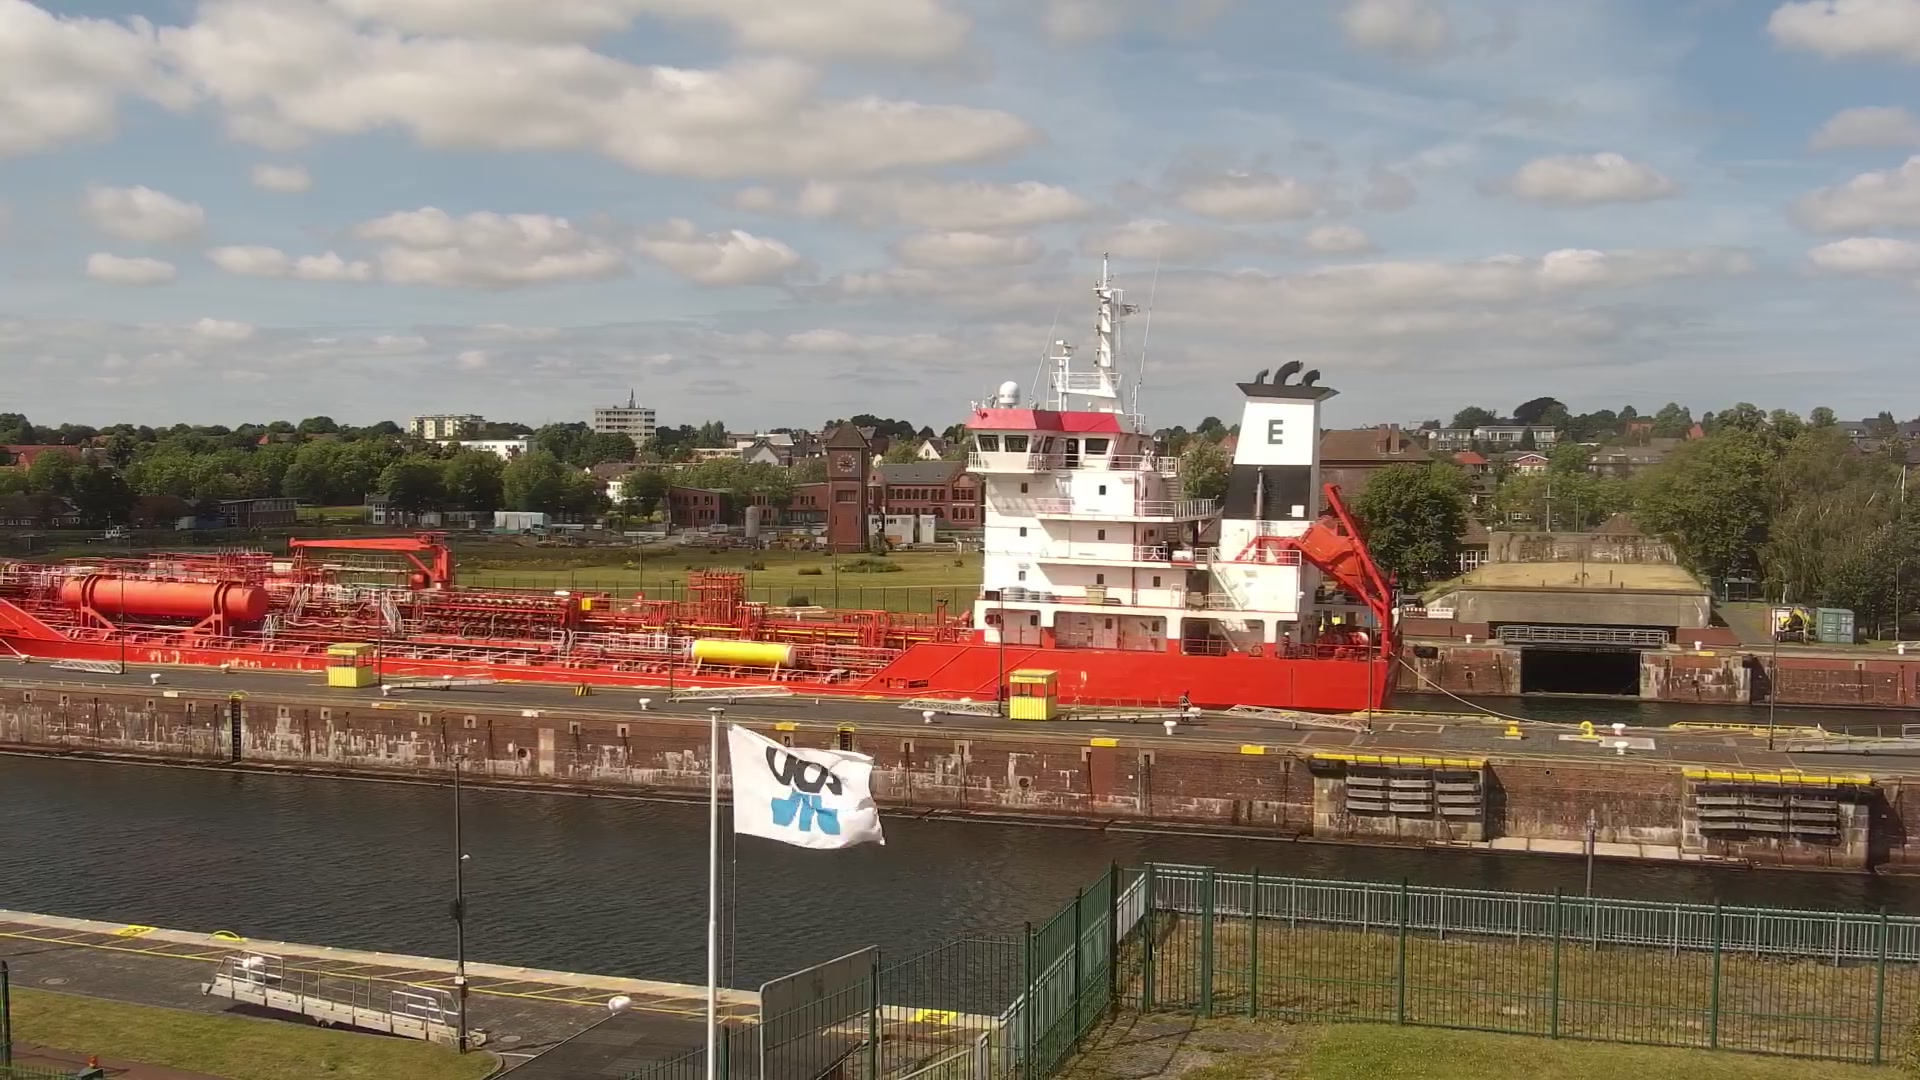land: (1771, 605, 1811, 644), (535, 531, 556, 546), (556, 535, 578, 547)
sea: (1, 251, 1400, 713)
